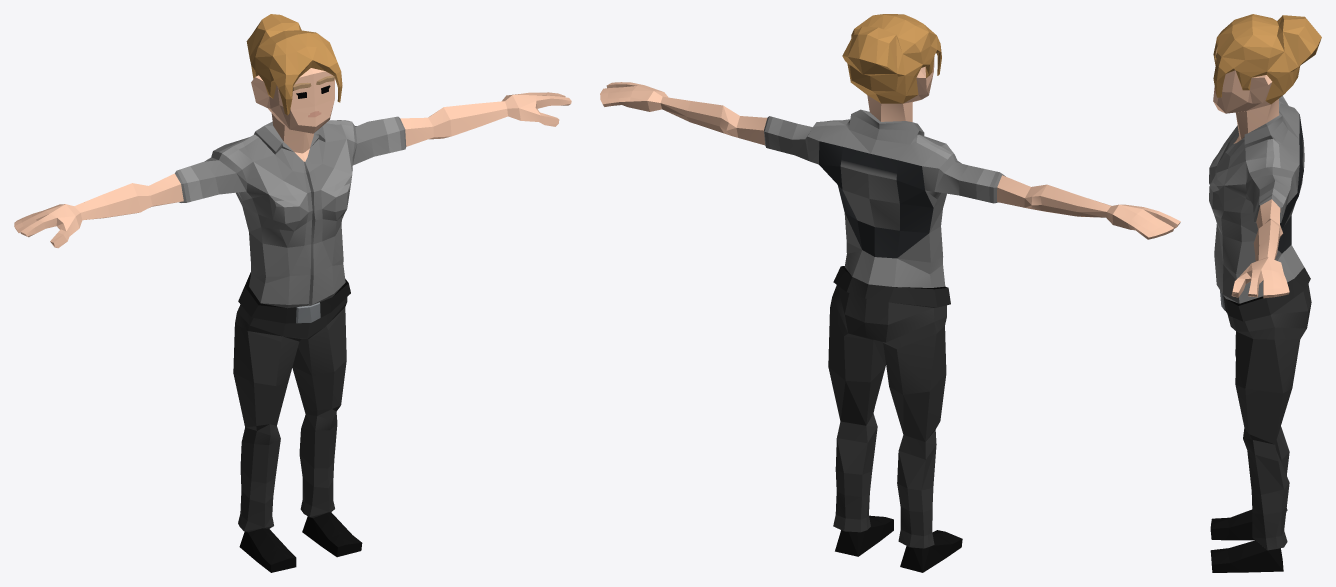
Rendered from yeni_stajyer.fbx.
The picture shows the model from 3 angles, left to right: view 1: azimuth 30°, elevation 25°; view 2: azimuth 150°, elevation 25°; view 3: azimuth 270°, elevation 25°; orthographic projection. The views are drawn at different scales.
Visible parts, largest first — view 1: SK_Character_Paramedic; view 2: SK_Character_Paramedic; view 3: SK_Character_Paramedic.
Part boxes in pixels (<box>): SK_Character_Paramedic: <box>14,14,571,572</box>; SK_Character_Paramedic: <box>600,14,1180,572</box>; SK_Character_Paramedic: <box>1209,14,1321,572</box>.
Size of the model in its own units: 204 by 183 by 35.25.
